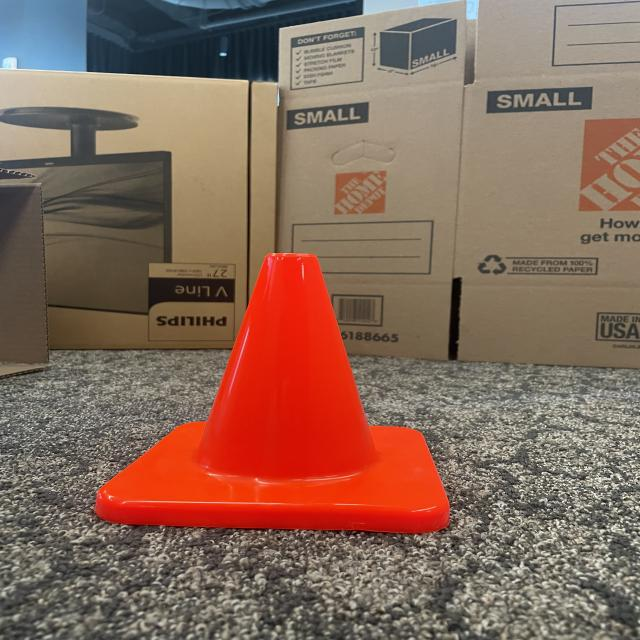Traffic Cone: (91, 249, 456, 533)
